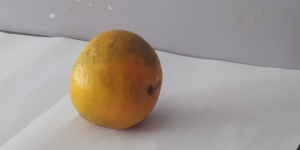BAD: (70, 25, 163, 130)
